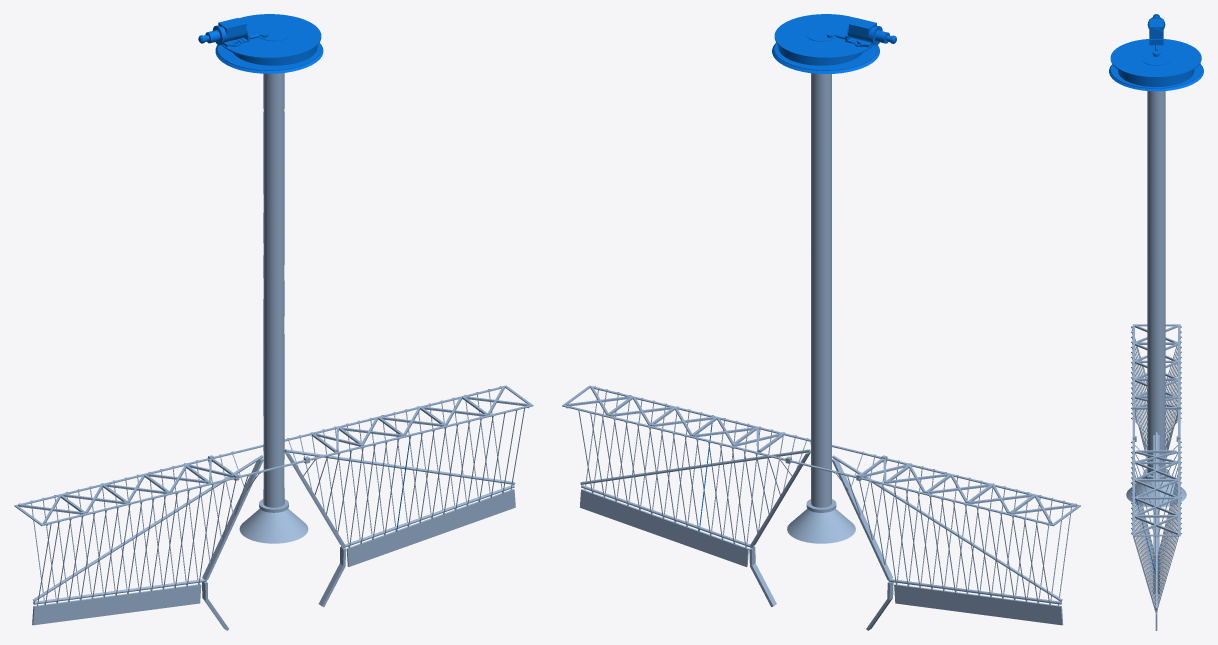
The model's file is central-drive-scraper.gltf.
3 views of the same model, side by side, from view 1: azimuth 30°, elevation 25°; view 2: azimuth 150°, elevation 25°; view 3: azimuth 270°, elevation 25° (orthographic). The views are drawn at different scales.
Visible parts, largest first — view 1: 拉伸 [223786], 拉伸 [223743], 拉伸 [223563], 拉伸 [223720], 连接的实心几何图形 [223907], 旋转 [223778], 拉伸 [226076], 拉伸 [223792], 拉伸 [226066], 放样 [223758], 放样 [226055], 拉伸 [223555]; view 2: 拉伸 [223786], 拉伸 [223743], 拉伸 [223563], 拉伸 [223720], 连接的实心几何图形 [223907], 旋转 [223778], 拉伸 [226076], 拉伸 [223792], 拉伸 [226066], 放样 [223758], 拉伸 [223555], 放样 [226055]; view 3: 拉伸 [223786], 拉伸 [223563], 拉伸 [226076], 连接的实心几何图形 [223907], 拉伸 [226066], 旋转 [223778], 拉伸 [223792], 拉伸 [223551], 拉伸 [226134], 拉伸 [223720], 放样 [226055], 拉伸 [223555] (+3 smaller).
Part boxes in pixels (<box>): 拉伸 [223786]: <box>263,73,284,507</box>; 拉伸 [223743]: <box>32,489,515,625</box>; 拉伸 [223563]: <box>222,14,321,58</box>; 拉伸 [223720]: <box>202,452,345,630</box>; 连接的实心几何图形 [223907]: <box>18,458,234,523</box>; 旋转 [223778]: <box>239,509,308,543</box>; 拉伸 [226076]: <box>314,386,529,451</box>; 拉伸 [223792]: <box>14,445,287,526</box>; 拉伸 [226066]: <box>260,385,533,465</box>; 放样 [223758]: <box>33,455,263,601</box>; 放样 [226055]: <box>284,449,515,484</box>; 拉伸 [223555]: <box>218,43,321,70</box>; 拉伸 [223786]: <box>811,73,831,507</box>; 拉伸 [223743]: <box>579,489,1063,625</box>; 拉伸 [223563]: <box>774,14,873,58</box>; 拉伸 [223720]: <box>749,452,893,630</box>; 连接的实心几何图形 [223907]: <box>861,458,1077,523</box>; 旋转 [223778]: <box>787,508,855,543</box>; 拉伸 [226076]: <box>565,386,781,451</box>; 拉伸 [223792]: <box>808,445,1080,526</box>; 拉伸 [226066]: <box>562,385,834,466</box>; 放样 [223758]: <box>832,455,1062,601</box>; 拉伸 [223555]: <box>774,43,877,70</box>; 放样 [226055]: <box>580,449,810,484</box>; 拉伸 [223786]: <box>1147,91,1165,475</box>; 拉伸 [223563]: <box>1110,39,1201,77</box>; 拉伸 [226076]: <box>1135,451,1177,534</box>; 连接的实心几何图形 [223907]: <box>1135,325,1177,409</box>; 拉伸 [226066]: <box>1132,430,1180,536</box>; 旋转 [223778]: <box>1126,477,1186,507</box>; 拉伸 [223792]: <box>1132,324,1180,429</box>; 拉伸 [223551]: <box>1118,69,1194,86</box>; 拉伸 [226134]: <box>1135,450,1177,517</box>; 拉伸 [223720]: <box>1153,435,1159,593</box>; 放样 [226055]: <box>1155,432,1157,610</box>; 拉伸 [223555]: <box>1110,64,1201,88</box>.
Bounding box in the file's own units: 5.74 × 6.74 × 1.09.
